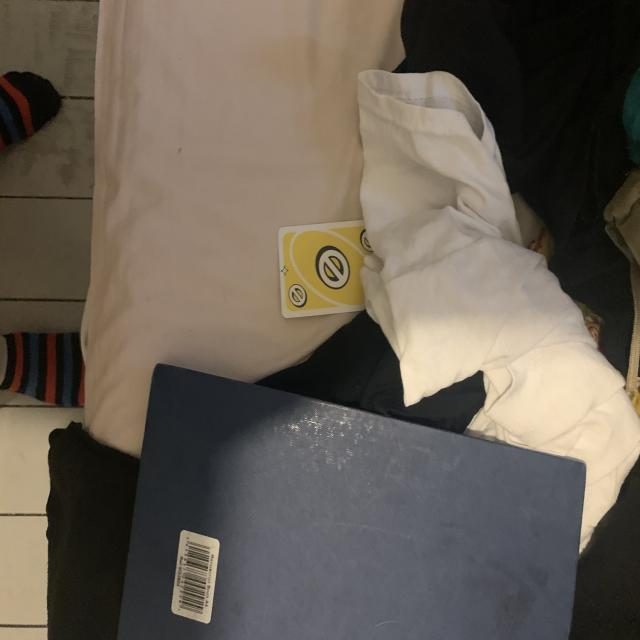lyellowskip-20: (283, 283, 312, 312)
